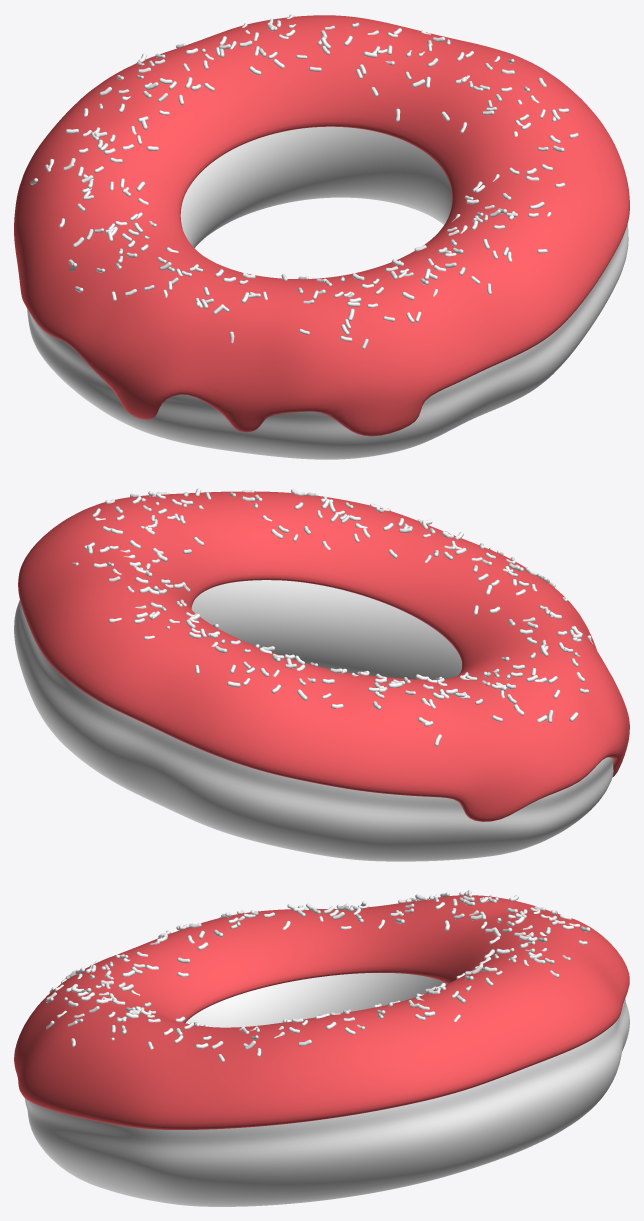
File: donut-3d-animated-icon-1274635257874.glb
The picture shows the model from 3 angles, top to bottom: view 1: azimuth 30°, elevation 25°; view 2: azimuth 150°, elevation 25°; view 3: azimuth 270°, elevation 25°; orthographic projection.
Visible parts, largest first — view 1: Glaze, Torus, Chocolate Sprinkles; view 2: Glaze, Torus, Chocolate Sprinkles; view 3: Glaze, Torus, Chocolate Sprinkles.
Part boxes in pixels (x1=…): Glaze: x1=14, y1=15, x2=629, y2=436; Torus: x1=27, y1=126, x2=628, y2=459; Chocolate Sprinkles: x1=30, y1=14, x2=578, y2=349; Glaze: x1=18, y1=491, x2=629, y2=821; Torus: x1=14, y1=580, x2=613, y2=861; Chocolate Sprinkles: x1=72, y1=488, x2=593, y2=746; Glaze: x1=14, y1=895, x2=629, y2=1129; Torus: x1=24, y1=973, x2=629, y2=1206; Chocolate Sprinkles: x1=45, y1=890, x2=590, y2=1062.
Size of the model in its own units: 5.14 by 2.31 by 5.09.
